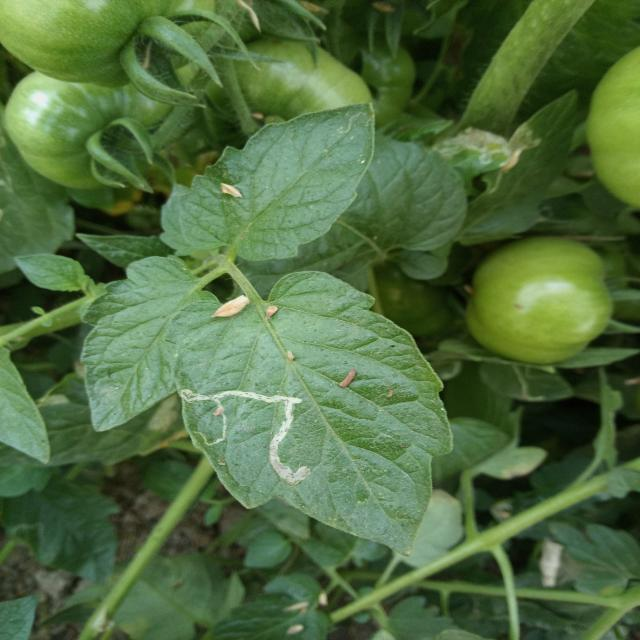Tuta absoluta: (178, 337, 343, 490)
